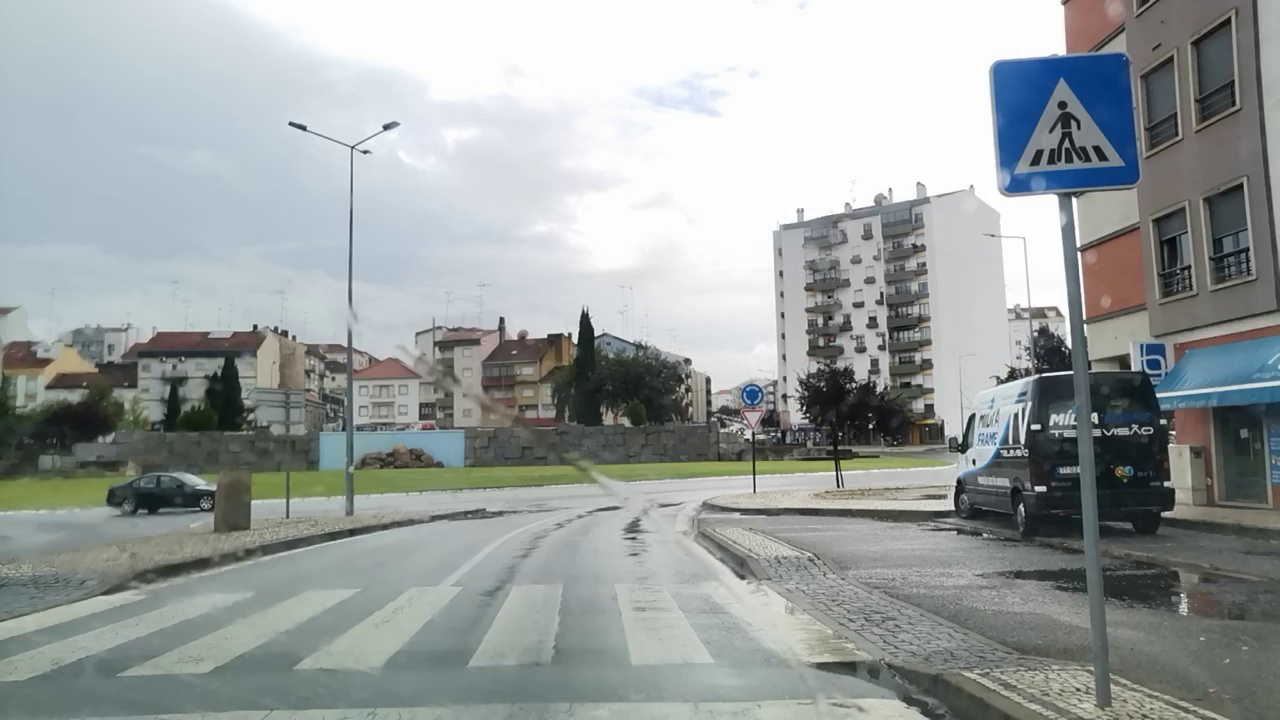Stairs: (0, 580, 870, 677)
